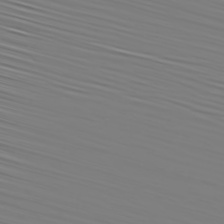cavities: (67, 98, 185, 153)
